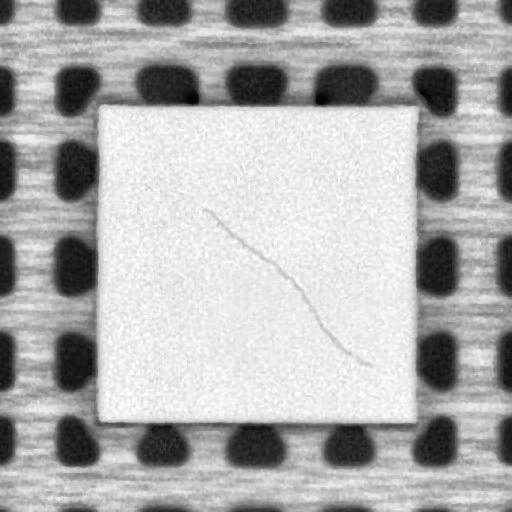DIE_CRACK: (199, 204, 373, 369)
